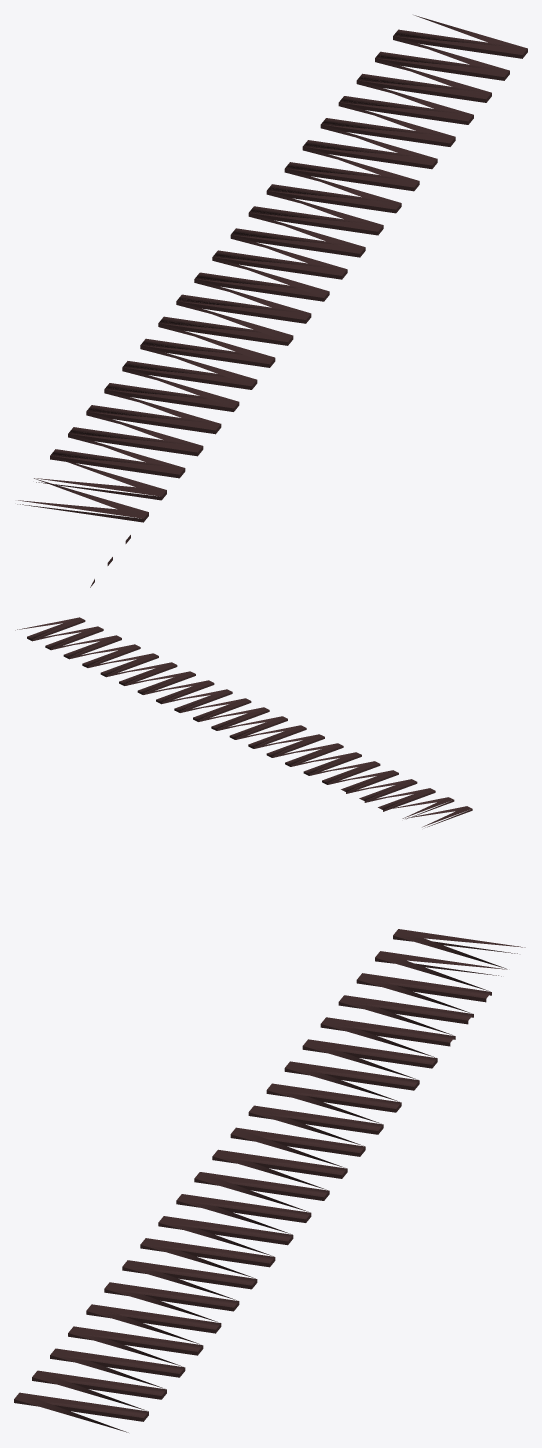
The picture shows the model from 3 angles, top to bottom: view 1: azimuth 90°, elevation 25°; view 2: azimuth 150°, elevation 25°; view 3: azimuth 270°, elevation 25°; orthographic projection. The views are drawn at different scales.
Bounding box in the file's own units: 21.02 × 0.064 × 8.
